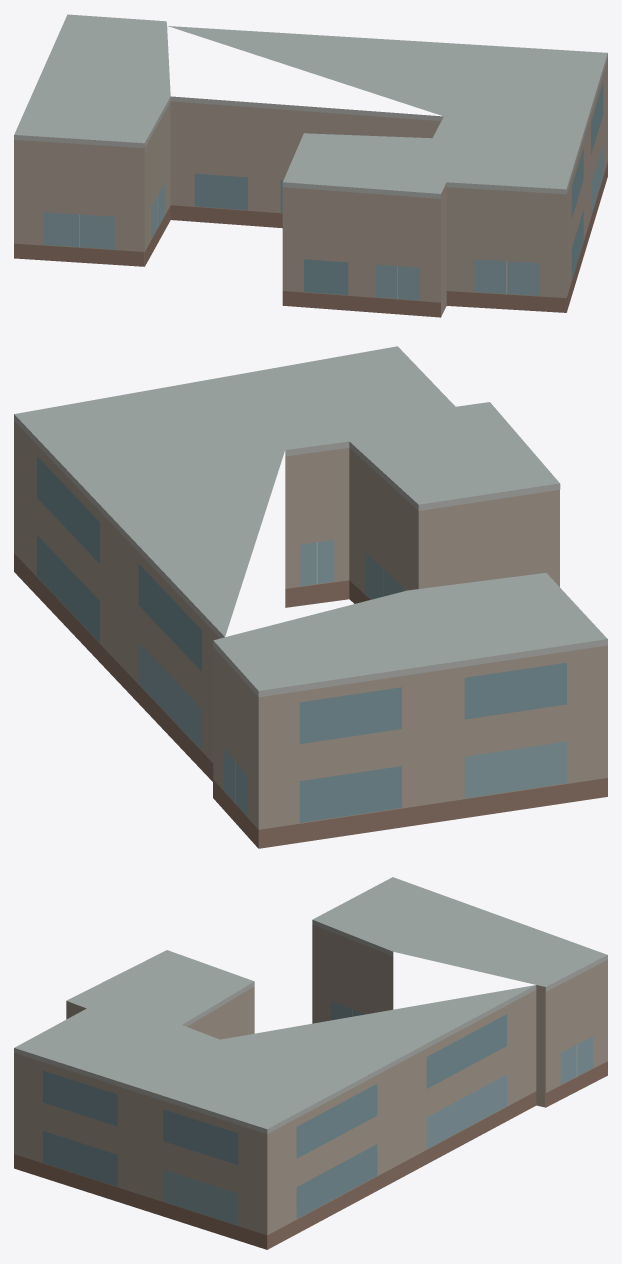
File: survey-upis-32685542.glb
3 views of the same model, one above another, from view 1: azimuth 30°, elevation 25°; view 2: azimuth 150°, elevation 25°; view 3: azimuth 270°, elevation 25° (orthographic). The views are drawn at different scales.
Parts seen in each view (by area): view 1: survey-upis-32685542.tmp; view 2: survey-upis-32685542.tmp; view 3: survey-upis-32685542.tmp.
Part boxes in pixels (box(x1,y1,x2,y2)): survey-upis-32685542.tmp: box(14, 14, 607, 317); survey-upis-32685542.tmp: box(14, 346, 607, 848); survey-upis-32685542.tmp: box(14, 877, 607, 1249).
Size of the model in its own units: 27.37 by 6.1 by 27.23.
